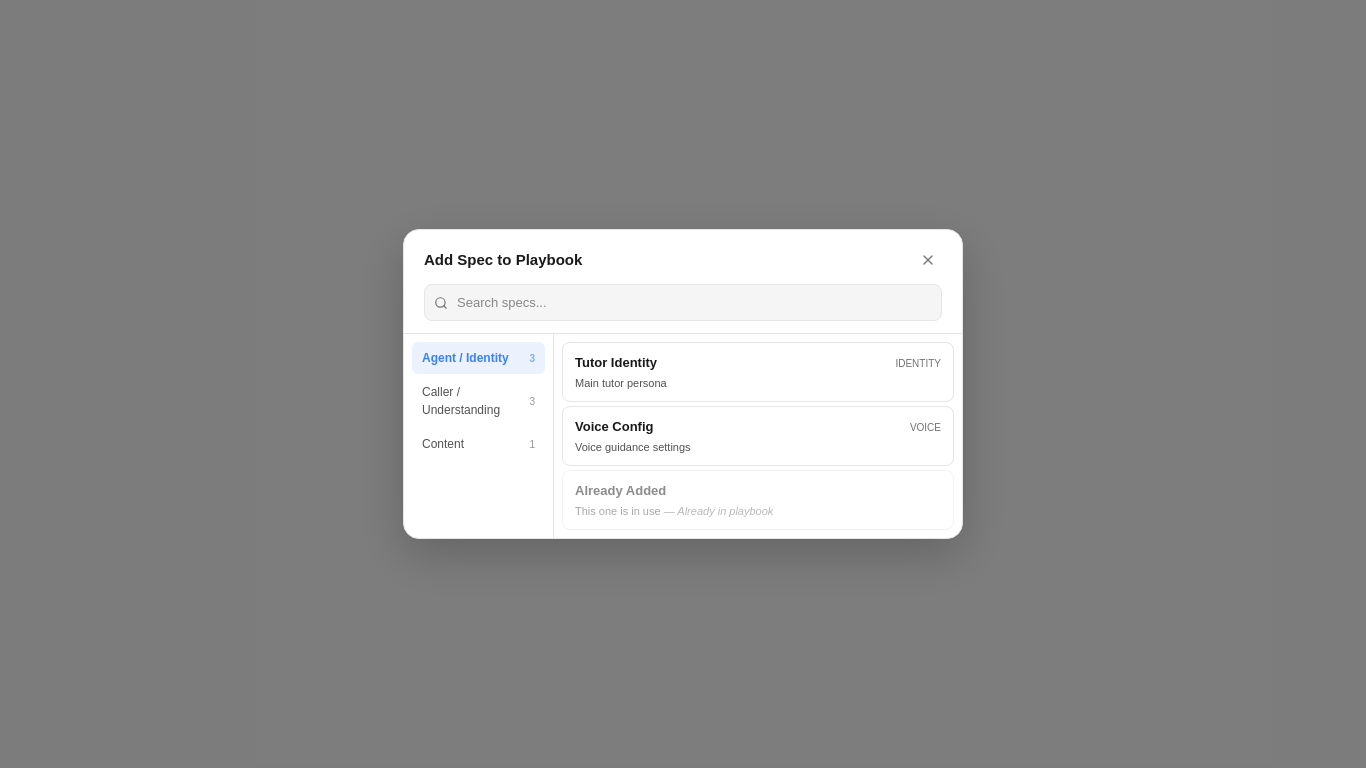
Scenario: TypePickerDialog category switching › switches to content category on click
This screenshot has width=1366, height=768.
What coordinates should you click on to do the following:
click the button with test id "picker-cat-content"
I would click on:
 (478, 444)
Its box is [412,428,545,460].
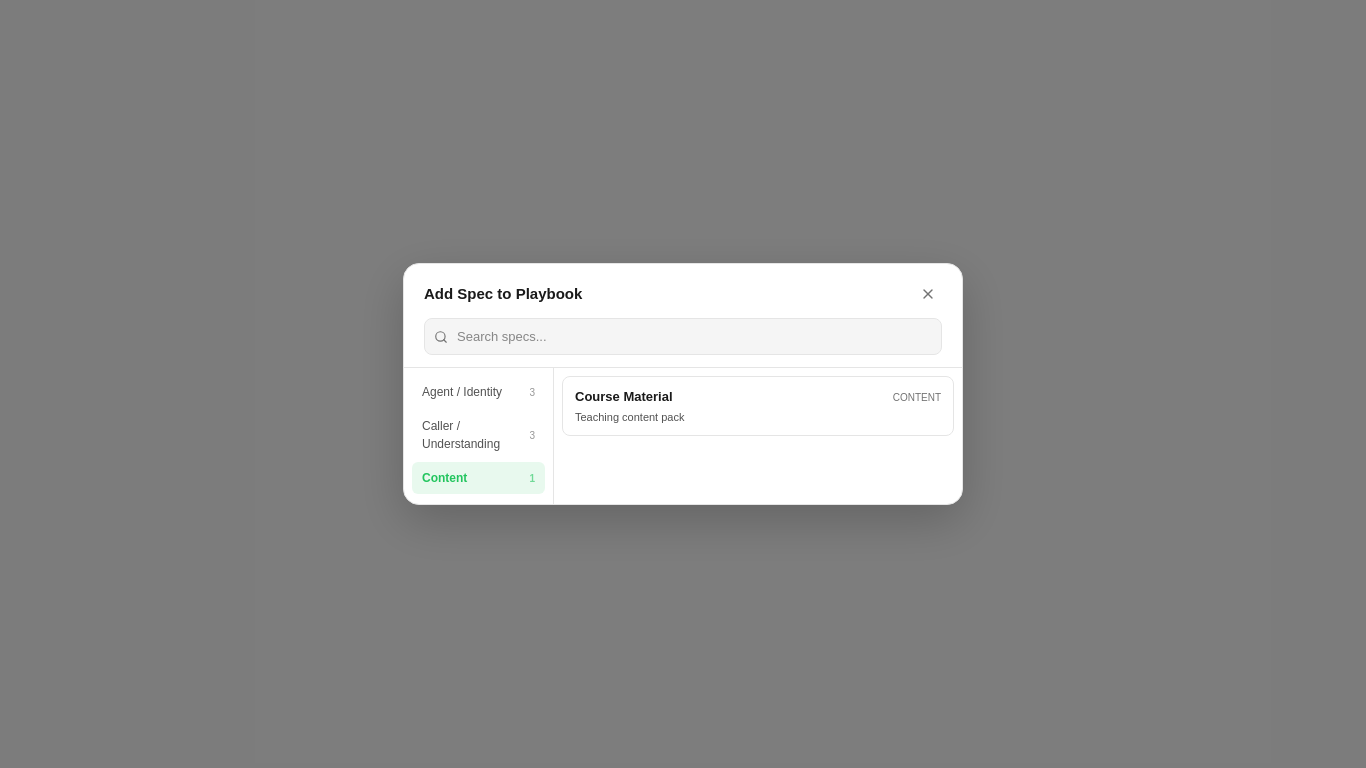
Now the text "Course Material" is shown, box [575,387,672,407]
Now the button "Tutor Identity" is gone
